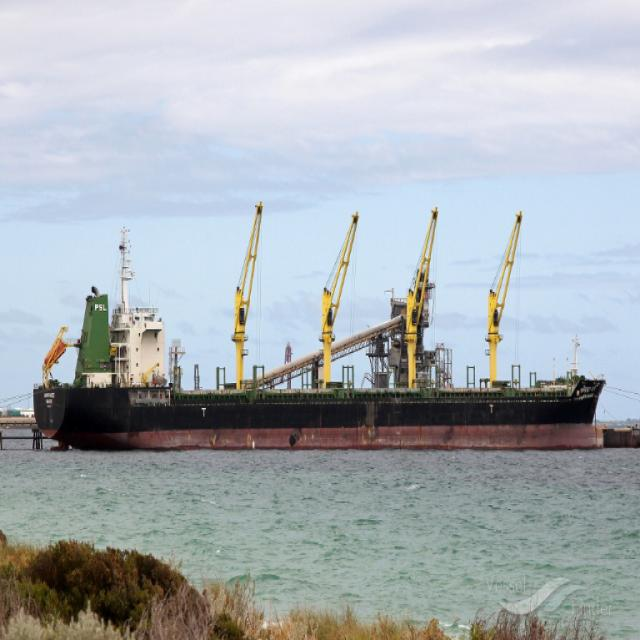OCR: (575, 385, 600, 408)
